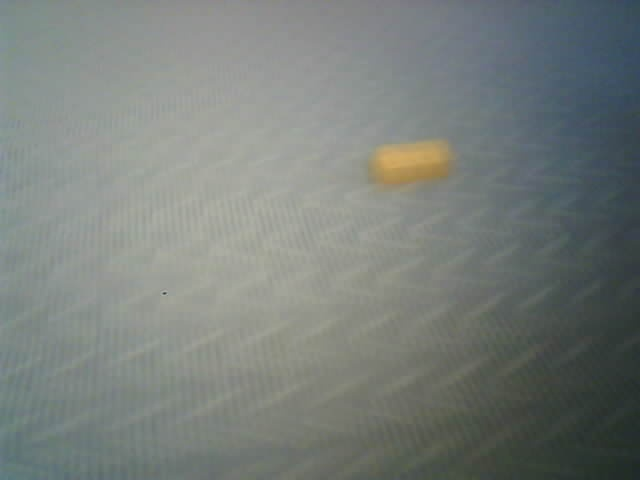lego: (370, 139, 455, 185)
